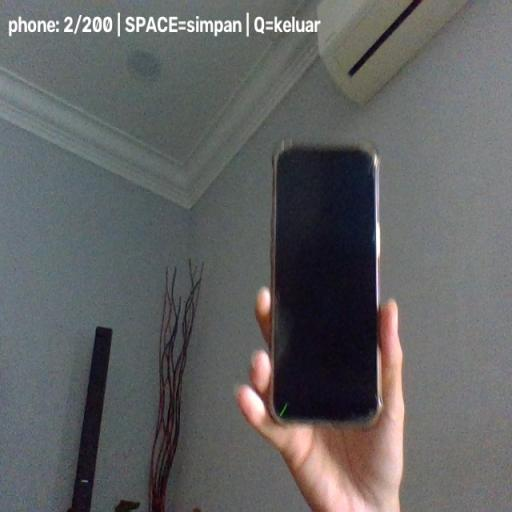Phone: (268, 138, 383, 426)
